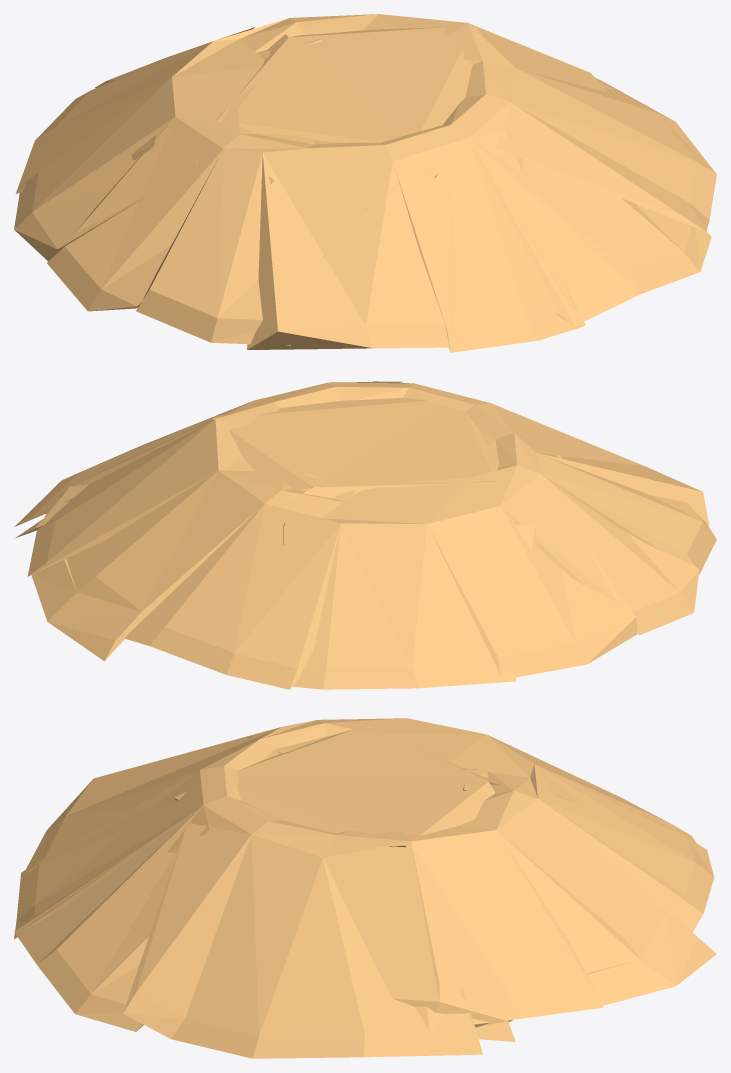
3 views of the same model, one above another, from view 1: azimuth 30°, elevation 25°; view 2: azimuth 150°, elevation 25°; view 3: azimuth 270°, elevation 25° (orthographic). The views are drawn at different scales.
Visible parts, largest first — view 1: mesh_678772930, mesh_1285004618; view 2: mesh_678772930, mesh_1285004618; view 3: mesh_678772930, mesh_1285004618.
Boxes of the visible parts, bbox=[...] form: mesh_678772930: bbox=[14, 14, 716, 352]; mesh_1285004618: bbox=[196, 25, 480, 208]; mesh_678772930: bbox=[14, 381, 716, 689]; mesh_1285004618: bbox=[213, 398, 552, 498]; mesh_678772930: bbox=[14, 718, 716, 1058]; mesh_1285004618: bbox=[171, 724, 501, 847].
Bounding box in the file's own units: 180 × 39.14 × 176.
